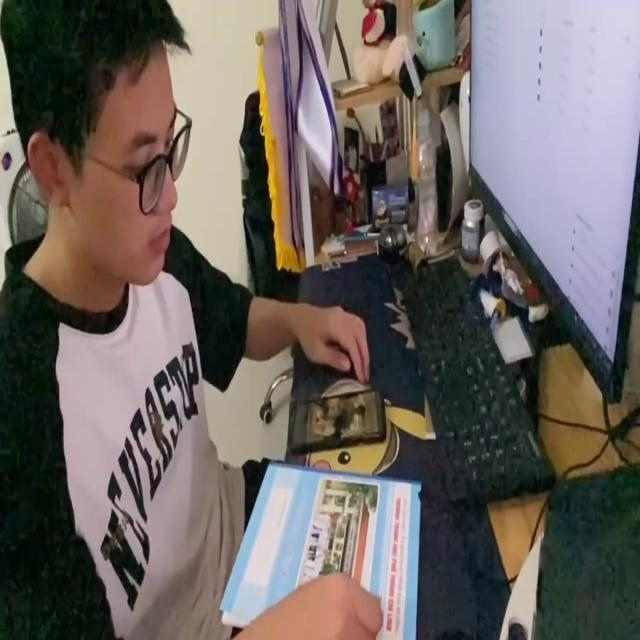book: (224, 459, 421, 640)
laptop: (468, 0, 639, 417)
phone: (284, 387, 385, 452)
student: (2, 0, 384, 640)
